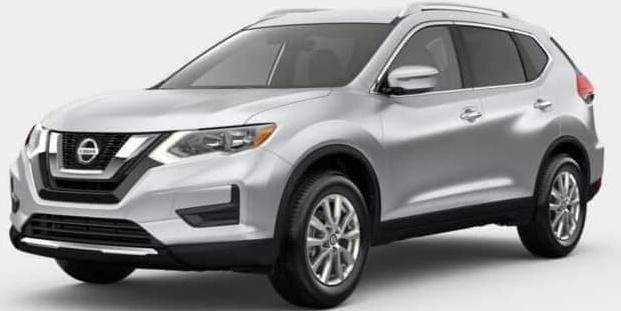SUV: (10, 5, 604, 308)
